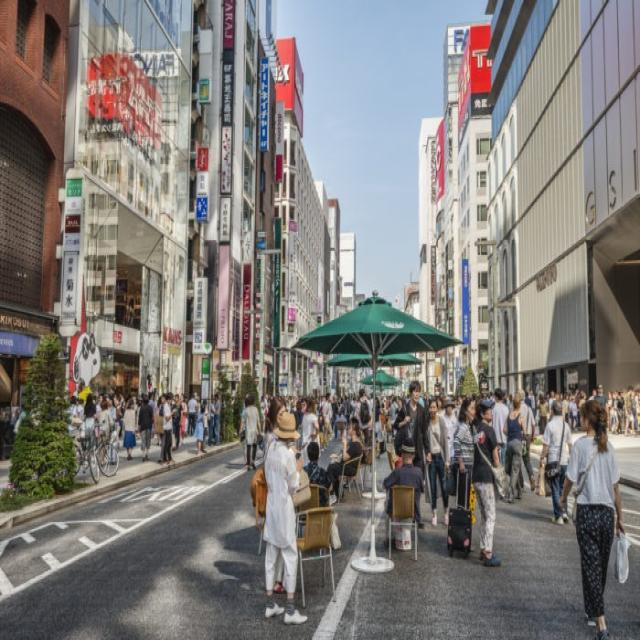body: (556, 396, 635, 639), (0, 388, 243, 445), (263, 411, 310, 626), (262, 395, 302, 595), (468, 396, 511, 569), (389, 377, 434, 531), (418, 379, 559, 428), (332, 388, 411, 461), (538, 398, 574, 528), (558, 382, 640, 437), (381, 437, 426, 526), (423, 397, 452, 529), (325, 416, 365, 503), (500, 388, 529, 506), (295, 439, 334, 526), (452, 395, 477, 511), (260, 392, 332, 430), (516, 387, 536, 492), (487, 386, 510, 472), (238, 393, 262, 472), (441, 393, 459, 498), (299, 394, 321, 466), (115, 282, 143, 332), (136, 392, 155, 464), (161, 389, 179, 465), (317, 391, 335, 454), (121, 397, 136, 461), (154, 392, 167, 465), (193, 403, 207, 457), (97, 397, 114, 434), (242, 394, 250, 456), (212, 392, 221, 446), (316, 414, 326, 454), (201, 398, 209, 414)
